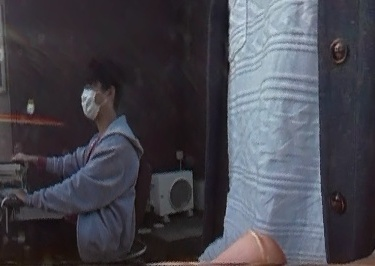person: (4, 56, 139, 266)
